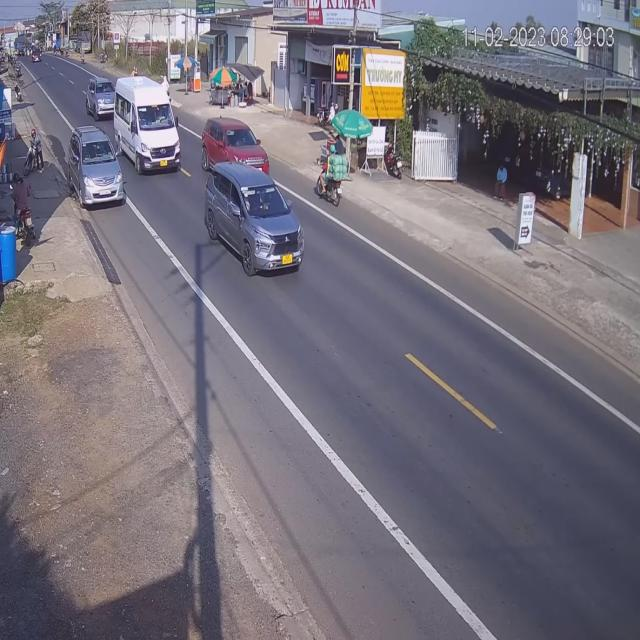bus: (116, 76, 183, 176)
car: (206, 161, 305, 279), (67, 125, 126, 209), (201, 117, 270, 176), (87, 76, 117, 121)
motorbike: (317, 153, 347, 210)
